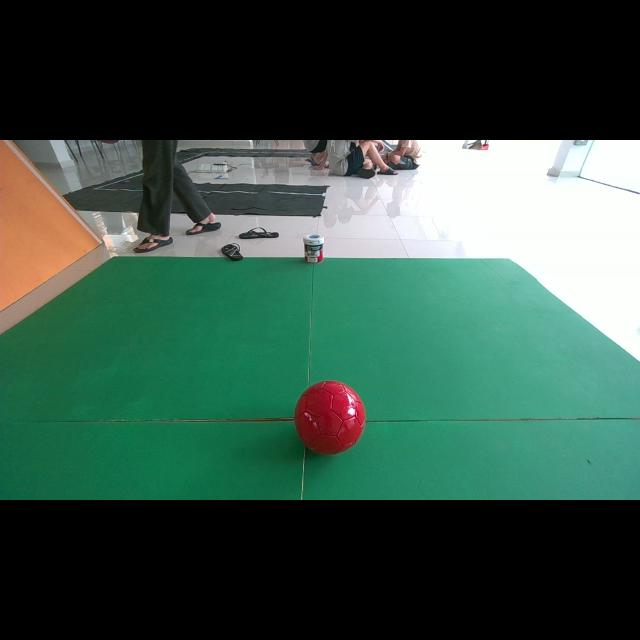R: (294, 380, 366, 454)
